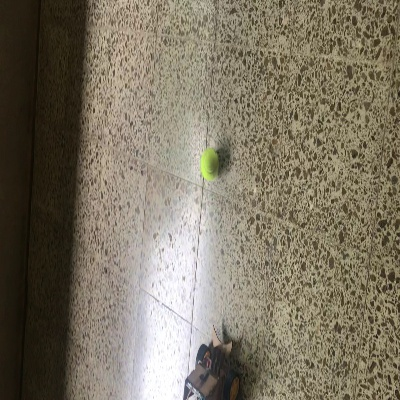Ball: (199, 149, 219, 178)
Robot: (184, 324, 240, 398)
